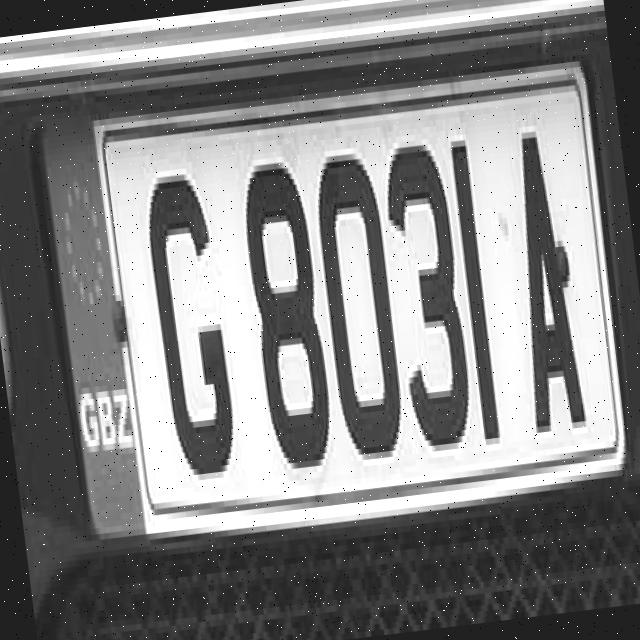Autre: (41, 64, 628, 528)
